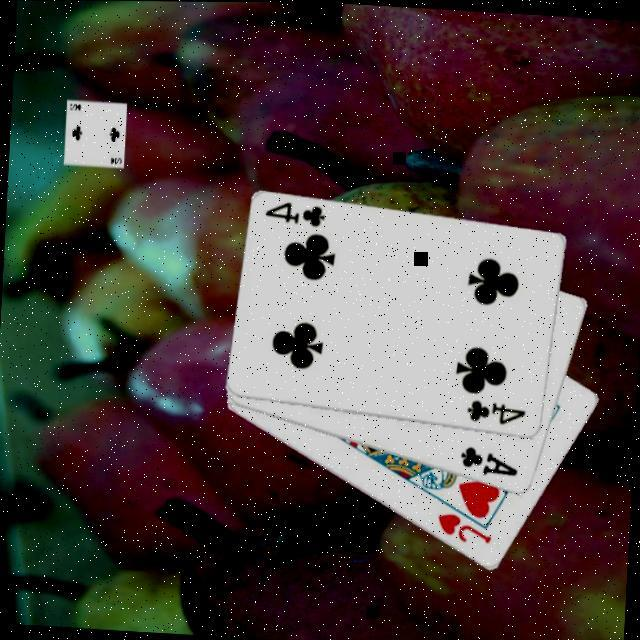4C: (260, 196, 327, 229), (462, 396, 527, 428)
AC: (454, 442, 520, 479)
JH: (430, 508, 494, 544)
